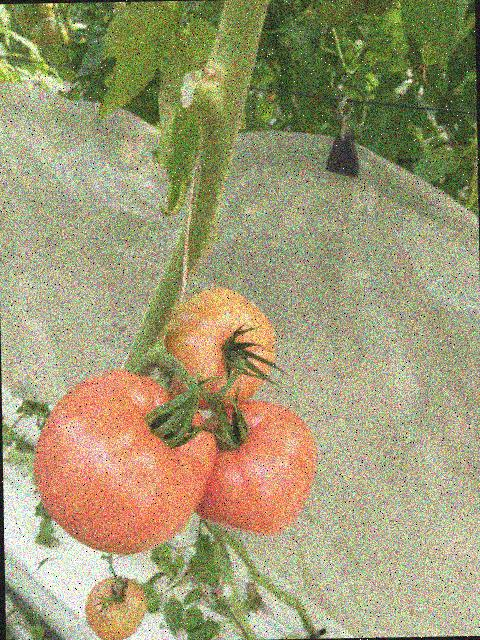b_fully_ripened: (32, 367, 219, 557), (193, 400, 320, 538)
b_half_ripened: (156, 286, 276, 412), (83, 576, 148, 640)
